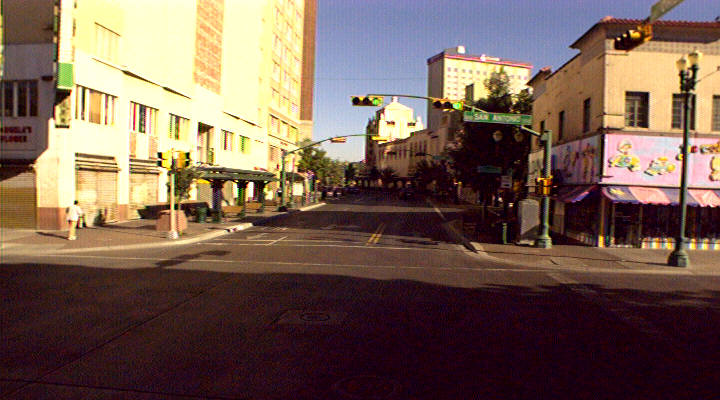Ramp: (470, 242, 666, 273), (2, 241, 68, 258)
